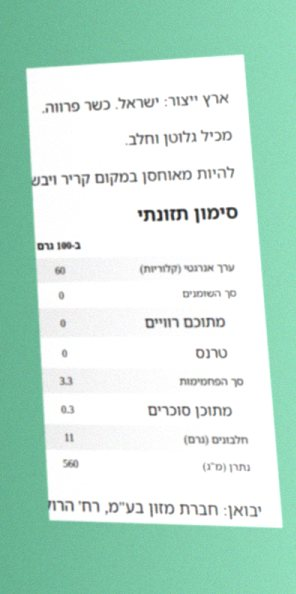carbs: (58, 371, 75, 390)
energy: (53, 261, 67, 279)
fat: (57, 286, 66, 304)
protein: (62, 428, 76, 447)
